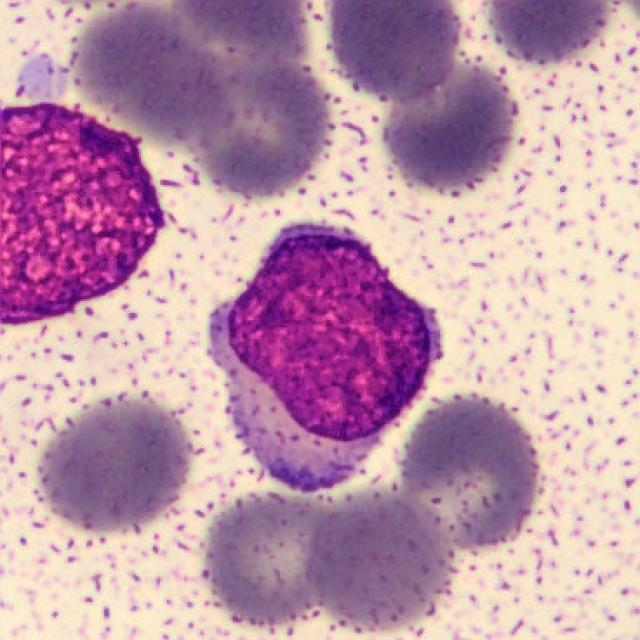Restos celulares: (0, 104, 165, 329)
